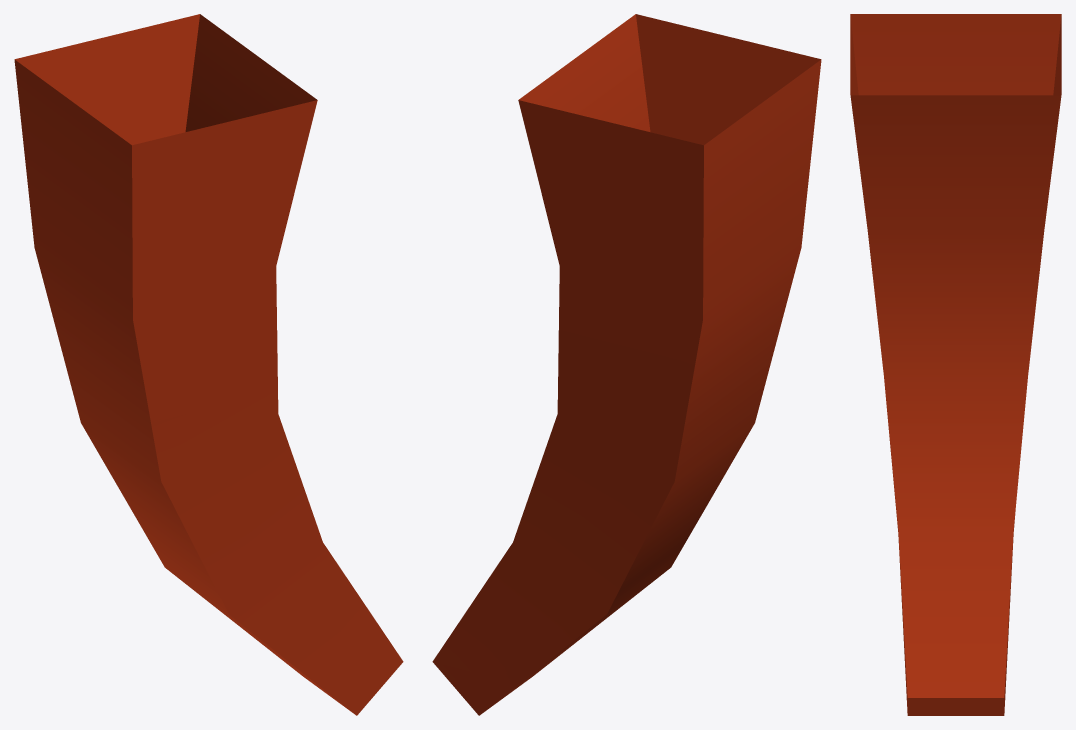
File: SMG1_Trigger.fbx
The picture shows the model from 3 angles, left to right: view 1: azimuth 30°, elevation 25°; view 2: azimuth 150°, elevation 25°; view 3: azimuth 270°, elevation 25°; orthographic projection. The views are drawn at different scales.
Parts seen in each view (by area): view 1: SMG1_Trigger; view 2: SMG1_Trigger; view 3: SMG1_Trigger.
Boxes of the visible parts, x1,y1,x2,y2 form: SMG1_Trigger: [14, 14, 403, 715]; SMG1_Trigger: [432, 14, 821, 715]; SMG1_Trigger: [850, 14, 1061, 715].
Bounding box in the file's own units: 1.88 × 3.89 × 1.26.
